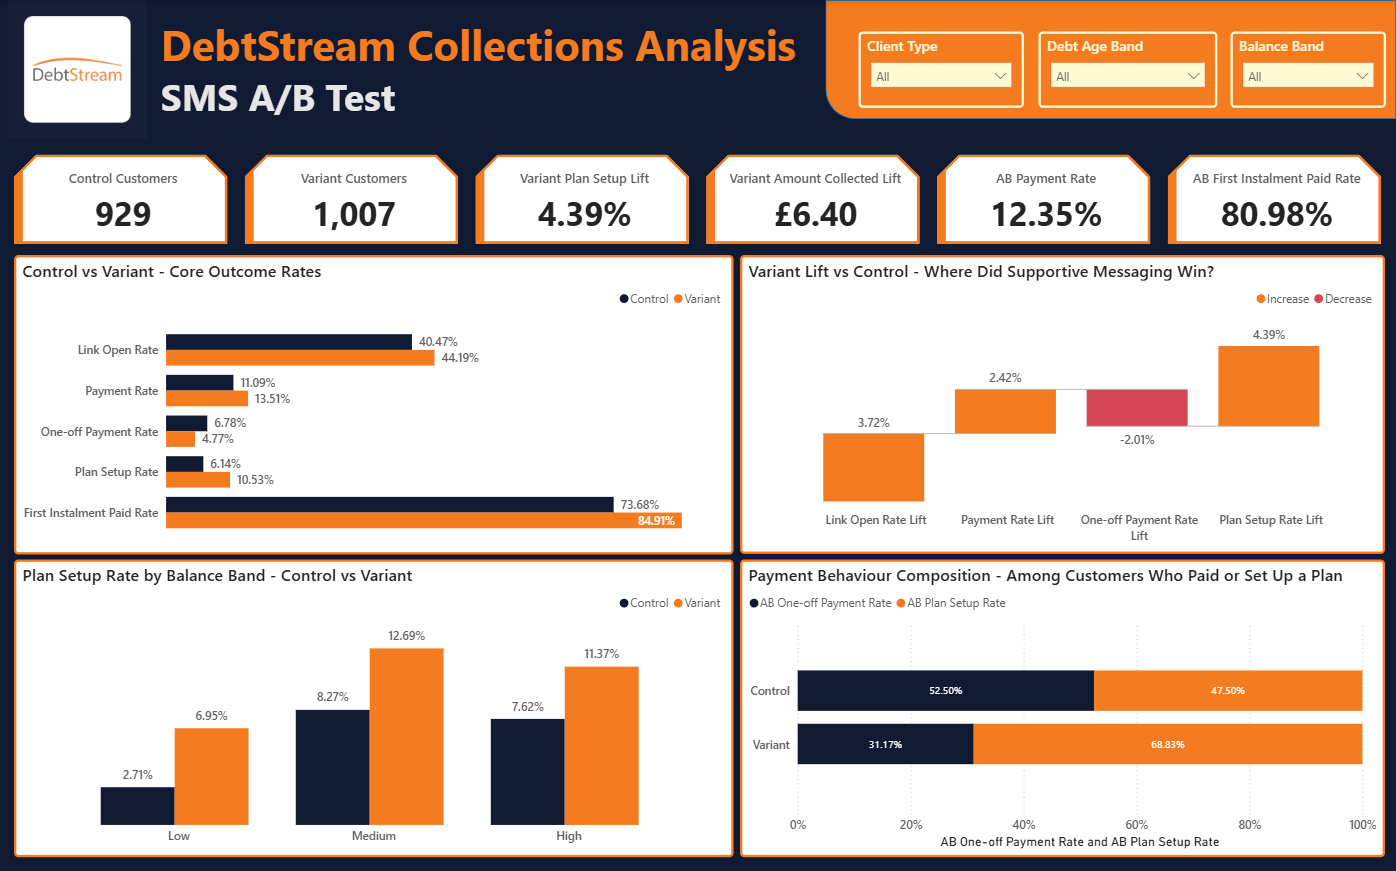

Layout of this report page (visuals, bound fields, positions):
{"tool":"powerbi","page":{"name":"SMS A/B Test","canvas":[1600,1000],"ordinal":1},"visuals":[{"type":"textbox","box":[180.2,12,748.3,147.6],"z":0},{"type":"image","box":[0,0,179.8,159],"z":1000},{"type":"cardVisual","fields":{"Data":["Key Measures.Control Customers","Key Measures.Variant Customers","Key Measures.Variant Plan Setup Lift","Key Measures.Variant Amount Collected Lift","Key Measures.AB Payment Rate","Key Measures.AB First Instalment Paid Rate"]},"box":[0,159,1599.4,136.3],"z":2000},{"type":"clusteredBarChart","title":"Control vs Variant - Core Outcome Rates","fields":{"Category":["AB Core Metrics.Metric"],"Y":["Key Measures.AB Selected Metric Rate"],"Series":["Fact AB Test.ab_test_group"]},"box":[17,291.5,823.3,342.6],"z":3000},{"type":"clusteredColumnChart","title":"Plan Setup Rate by Balance Band - Control vs Variant","fields":{"Category":["Fact AB Test.balance_band"],"Y":["Key Measures.AB Plan Setup Rate"],"Series":["Fact AB Test.ab_test_group"]},"box":[17,639.8,823.3,340.7],"z":4000},{"type":"waterfallChart","title":"Variant Lift vs Control - Where Did Supportive Messaging Win?","fields":{"Category":["AB Lift Metrics.Metric"],"Y":["Key Measures.AB Selected Lift"]},"box":[848,291.5,738.2,342],"z":5000},{"type":"shape","box":[946.4,0,653,136.3],"z":6000},{"type":"hundredPercentStackedBarChart","title":"Payment Behaviour Composition - Among Customers Who Paid or Set Up a Plan","fields":{"Category":["Fact AB Test.ab_test_group"],"Y":["Key Measures.AB One-off Payment Rate","Key Measures.AB Plan Setup Rate"]},"box":[848,639.8,738.2,340.7],"z":7000},{"type":"slicer","title":"Client Type","fields":{"Values":["Fact AB Test.client_type"]},"box":[984.2,36,189.3,87.1],"z":8000},{"type":"slicer","title":"Debt Age Band","fields":{"Values":["Fact AB Test.debt_age_band"]},"box":[1188.7,36,204.4,87.1],"z":9000},{"type":"slicer","title":"Balance Band","fields":{"Values":["Fact AB Test.balance_band"]},"box":[1408.2,36,177.9,87.1],"z":11000}]}

Visuals, with their boxes in screenshot pixels (x1, y1, x2, y2), scaled from the page's 1600x1000 canvas onto the 1396x871 screenshot:
textbox: region(157, 10, 810, 139)
image: region(0, 0, 157, 138)
cardVisual - Key Measures.Control Customers x Key Measures.Variant Customers: region(0, 138, 1395, 257)
"Control vs Variant - Core Outcome Rates" clusteredBarChart: region(15, 254, 733, 552)
"Plan Setup Rate by Balance Band - Control vs Variant" clusteredColumnChart: region(15, 557, 733, 854)
"Variant Lift vs Control - Where Did Supportive Messaging Win?" waterfallChart: region(740, 254, 1384, 552)
shape: region(826, 0, 1395, 119)
"Payment Behaviour Composition - Among Customers Who Paid or Set Up a Plan" hundredPercentStackedBarChart: region(740, 557, 1384, 854)
"Client Type" slicer: region(859, 31, 1024, 107)
"Debt Age Band" slicer: region(1037, 31, 1215, 107)
"Balance Band" slicer: region(1229, 31, 1384, 107)
